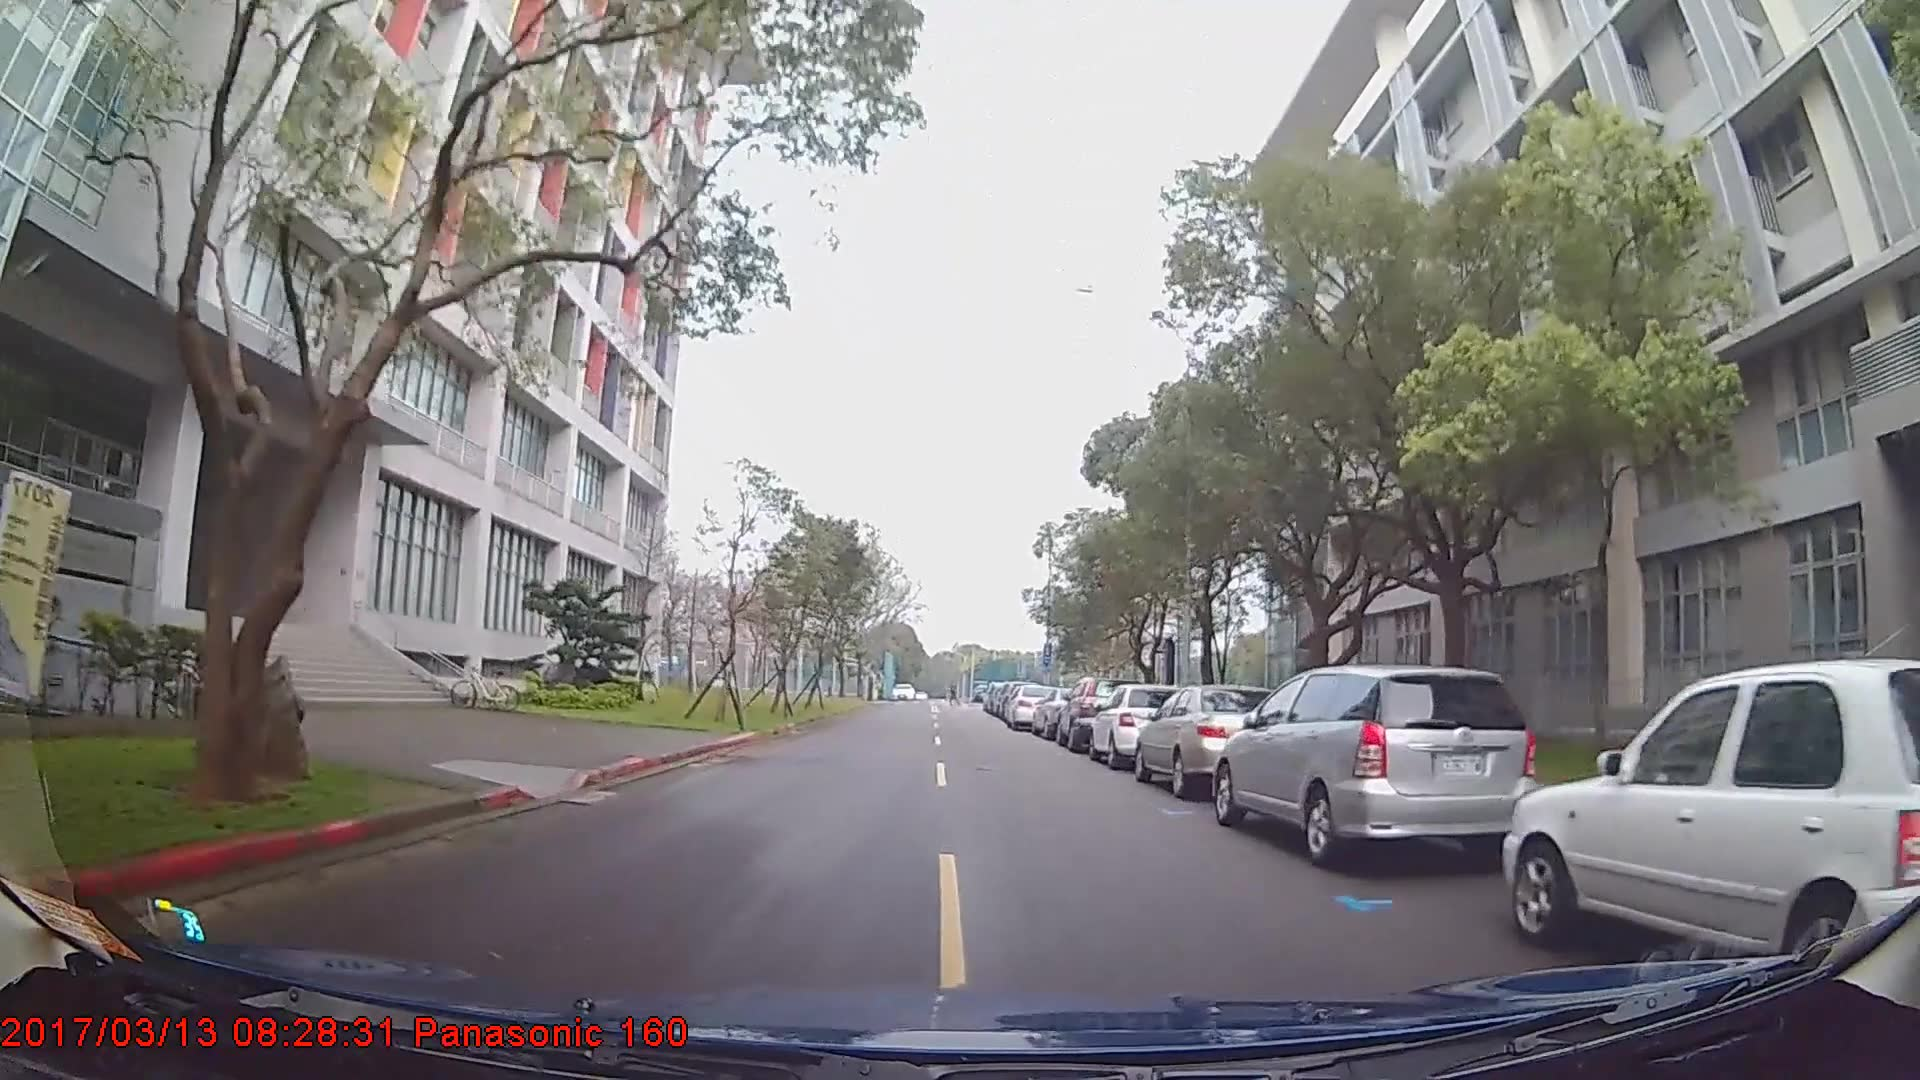vehicle: (1503, 655, 1920, 967), (1211, 663, 1538, 865), (1131, 682, 1294, 795), (1088, 682, 1184, 767), (1055, 676, 1137, 752), (1004, 680, 1062, 731)
